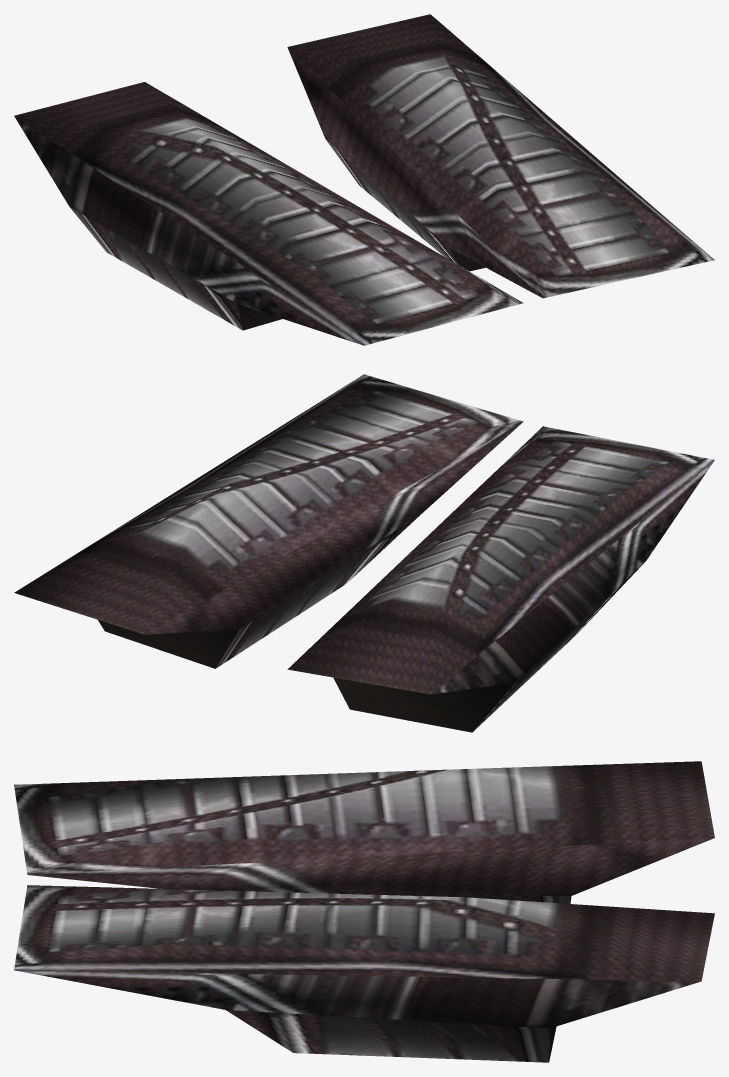
The model's file is ArmPads7__MOB.glb.
The picture shows the model from 3 angles, top to bottom: view 1: azimuth 30°, elevation 25°; view 2: azimuth 150°, elevation 25°; view 3: azimuth 270°, elevation 25°; orthographic projection. The views are drawn at different scales.
Parts seen in each view (by area): view 1: ArmPads7; view 2: ArmPads7; view 3: ArmPads7.
Part boxes in pixels (box(x1,y1,x2,y2)): ArmPads7: box(14, 14, 714, 345); ArmPads7: box(14, 374, 714, 732); ArmPads7: box(14, 761, 714, 1062).
Bounding box in the file's own units: 15.43 × 4.33 × 19.41.
Materials: 1 (1 with a texture image).
